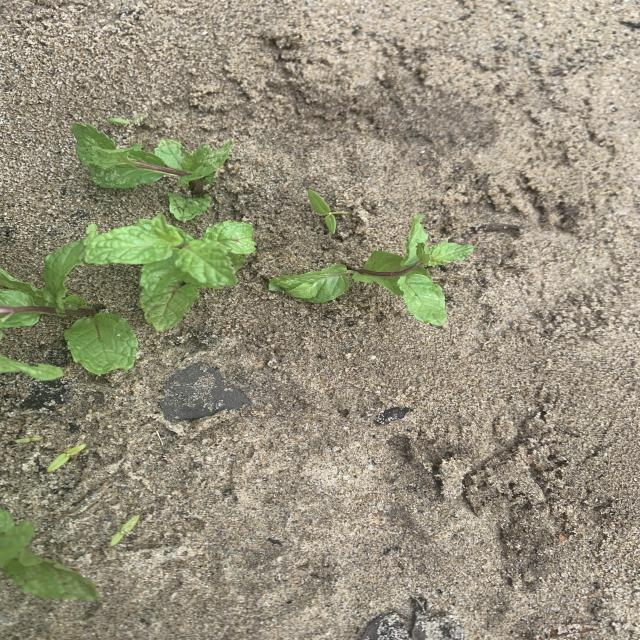crop: (269, 216, 474, 326), (84, 215, 255, 332), (0, 240, 138, 374), (72, 124, 232, 220), (0, 509, 99, 601), (0, 356, 63, 381)
weed: (308, 189, 347, 234), (108, 514, 140, 549), (47, 447, 78, 472), (107, 114, 148, 126), (14, 430, 47, 444), (196, 17, 204, 23)
